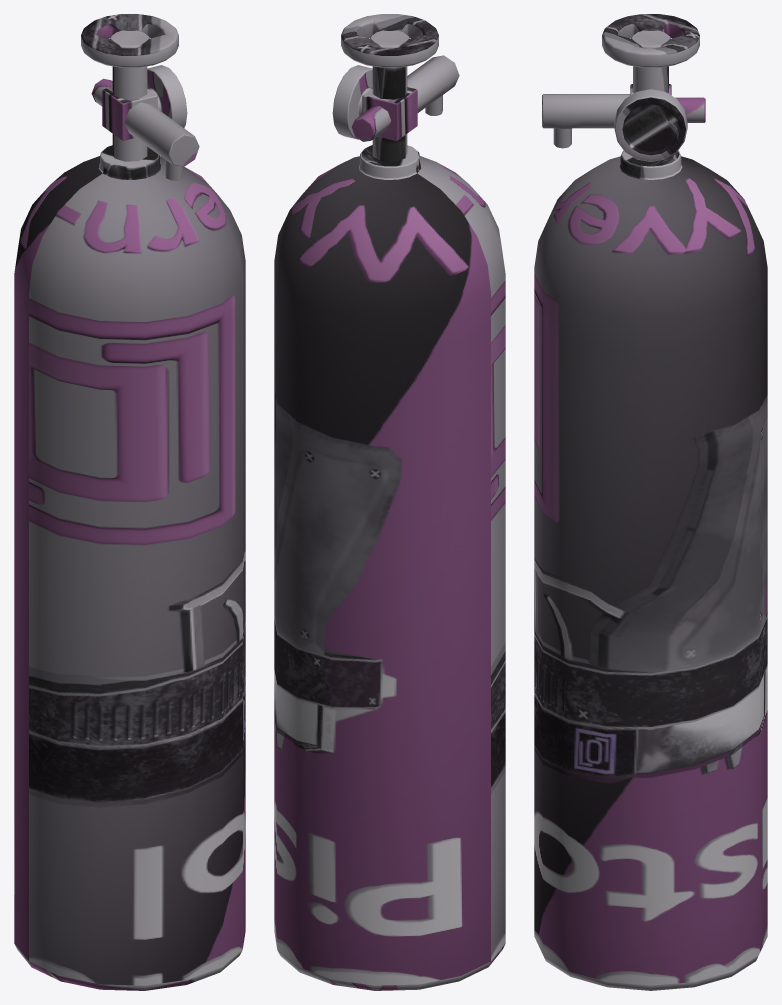
The model's file is SM_OxygenMedicalTank.fbx.
3 views of the same model, side by side, from view 1: azimuth 30°, elevation 25°; view 2: azimuth 150°, elevation 25°; view 3: azimuth 270°, elevation 25° (orthographic).
Parts seen in each view (by area): view 1: The cylinder of all cylinders, Also a cylinder, A cylinders, These are all technically cylindders and once of them is tot, The Cylinder; view 2: The cylinder of all cylinders, Also a cylinder, These are all technically cylindders and once of them is tot, A cylinders, The Cylinder; view 3: The cylinder of all cylinders, Also a cylinder, The Cylinder, A cylinders, These are all technically cylindders and once of them is tot.
Part boxes in pixels (x1,y1,x2,y2): The cylinder of all cylinders: [14, 145, 245, 990]; Also a cylinder: [81, 14, 178, 67]; A cylinders: [91, 78, 199, 180]; These are all technically cylindders and once of them is tot: [102, 66, 157, 161]; The Cylinder: [147, 65, 187, 127]; The cylinder of all cylinders: [274, 145, 505, 990]; Also a cylinder: [341, 14, 438, 67]; These are all technically cylindders and once of them is tot: [362, 66, 417, 161]; A cylinders: [351, 55, 459, 141]; The Cylinder: [332, 65, 372, 139]; The cylinder of all cylinders: [534, 150, 767, 990]; Also a cylinder: [602, 14, 699, 67]; The Cylinder: [614, 89, 687, 161]; A cylinders: [542, 94, 705, 148]; These are all technically cylindders and once of them is tot: [630, 66, 671, 95].
Size of the model in its own units: 18.75 by 18.75 by 80.85.
